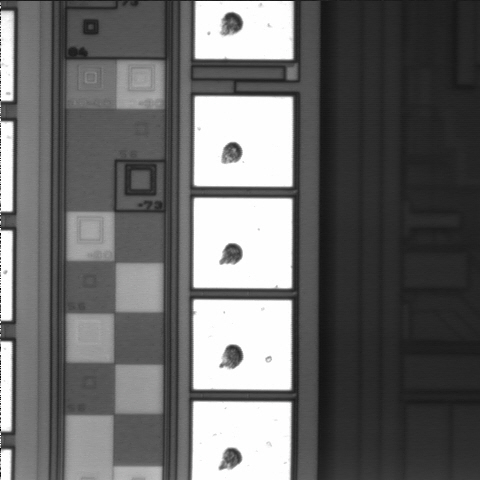pad: (194, 96, 293, 187), (193, 300, 292, 390), (194, 198, 292, 288)
